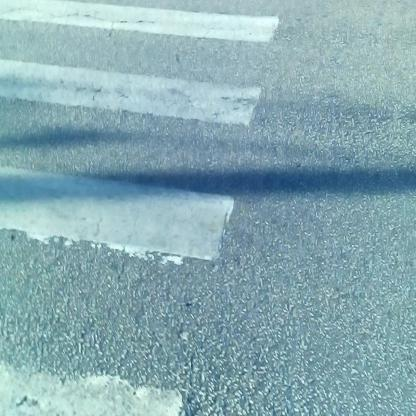crosswalk: (1, 11, 284, 401)
